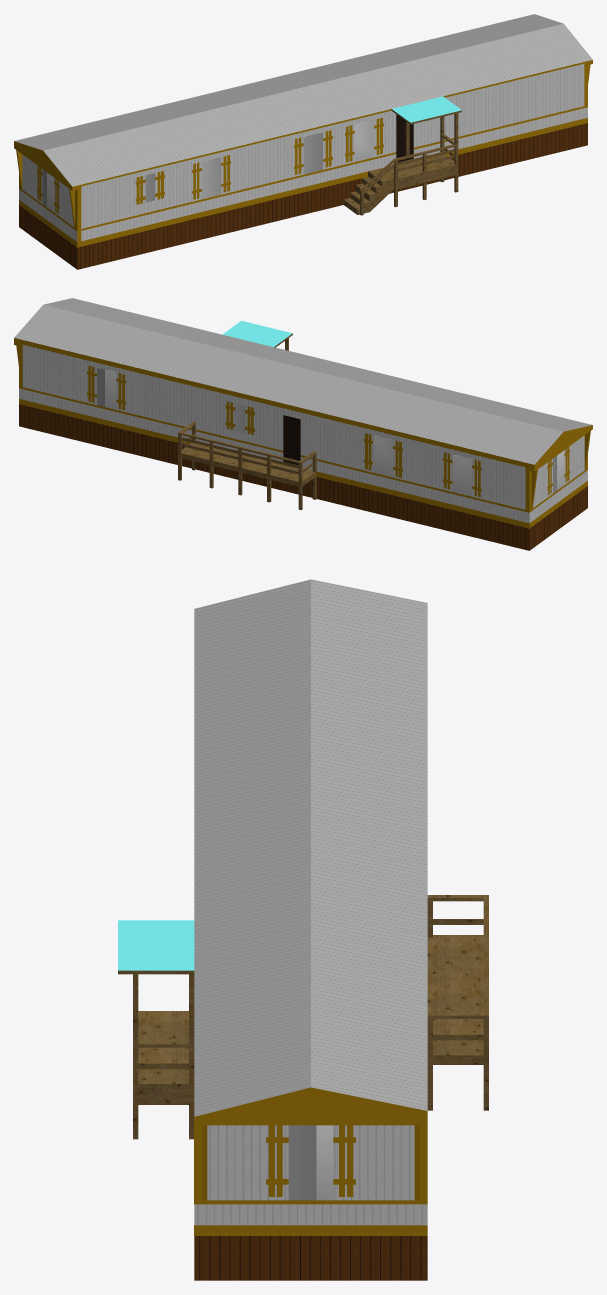
The model's file is hoppers_mobile_home.glb.
The picture shows the model from 3 angles, top to bottom: view 1: azimuth 30°, elevation 25°; view 2: azimuth 150°, elevation 25°; view 3: azimuth 270°, elevation 25°; orthographic projection. The views are drawn at different scales.
Parts seen in each view (by area): view 1: Material2 (×8); view 2: Material2 (×8); view 3: Material2 (×7).
Boxes of the visible parts, x1,y1,x2,y2 form: Material2 (×8): [14, 14, 592, 269]; Material2 (×8): [14, 298, 592, 550]; Material2 (×7): [118, 579, 488, 1280].
Bounding box in the file's own units: 727 × 132 × 224.
Materials: 9 (6 with a texture image).
